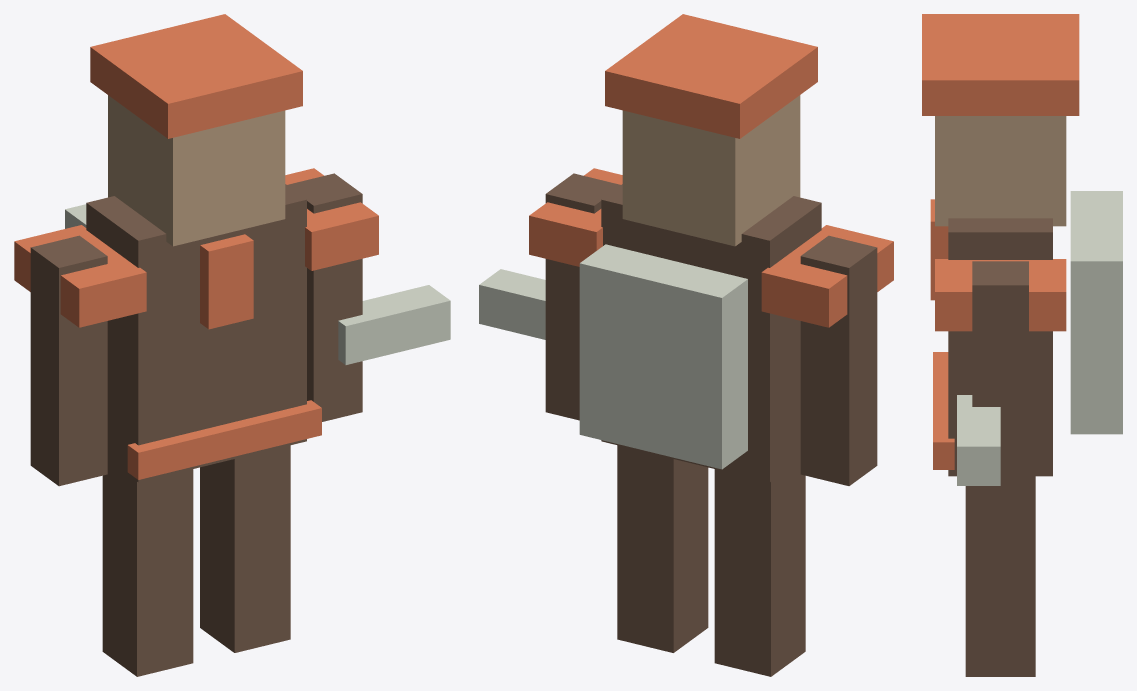
File: 02_sarai_trenchmark_operator_under_buried.glb
The picture shows the model from 3 angles, left to right: view 1: azimuth 30°, elevation 25°; view 2: azimuth 150°, elevation 25°; view 3: azimuth 270°, elevation 25°; orthographic projection.
Visible parts, largest first — view 1: Sarai Trenchmark, Operator under Buried; view 2: Sarai Trenchmark, Operator under Buried; view 3: Sarai Trenchmark, Operator under Buried.
Part boxes in pixels (bbox=[...]): Sarai Trenchmark, Operator under Buried: bbox=[14, 14, 450, 676]; Sarai Trenchmark, Operator under Buried: bbox=[479, 14, 893, 676]; Sarai Trenchmark, Operator under Buried: bbox=[922, 14, 1122, 676].
Size of the model in its own units: 1.02 by 1.49 by 0.4575.
